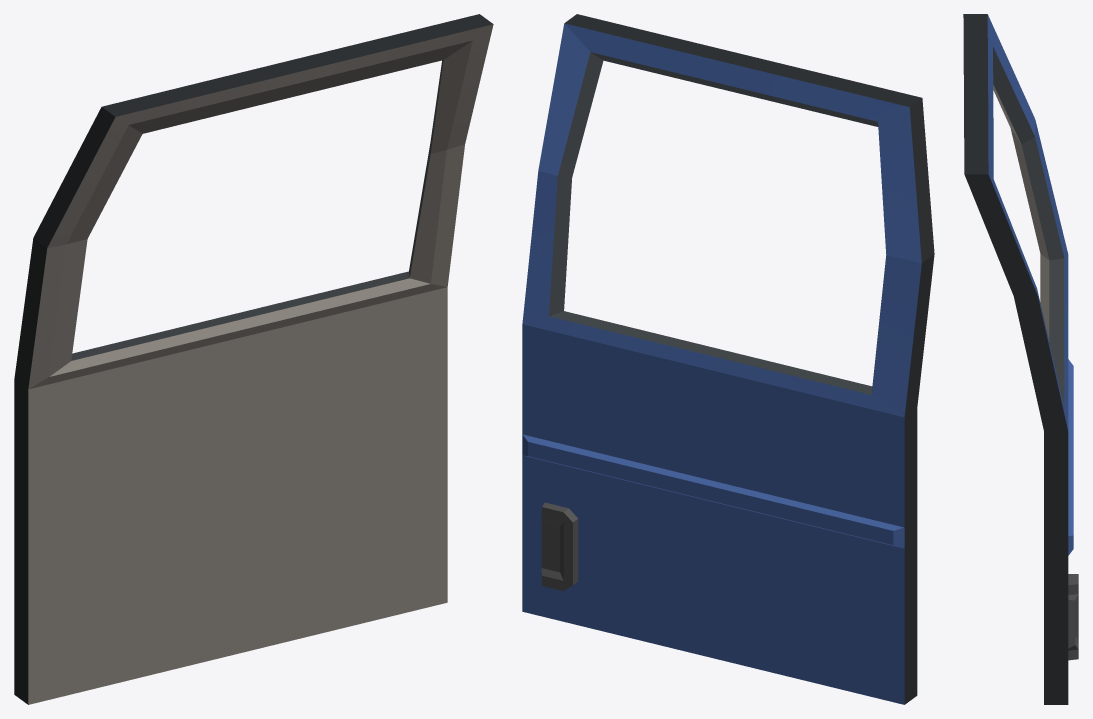
The model's file is SM_Veh_Car_Van_Door_r.obj.
The picture shows the model from 3 angles, left to right: view 1: azimuth 30°, elevation 25°; view 2: azimuth 150°, elevation 25°; view 3: azimuth 270°, elevation 25°; orthographic projection. The views are drawn at different scales.
Parts seen in each view (by area): view 1: SM_Veh_Car_Van_Door_r_0; view 2: SM_Veh_Car_Van_Door_r_0; view 3: SM_Veh_Car_Van_Door_r_0.
Boxes of the visible parts, x1,y1,x2,y2 form: SM_Veh_Car_Van_Door_r_0: (14, 14, 493, 704); SM_Veh_Car_Van_Door_r_0: (522, 14, 934, 704); SM_Veh_Car_Van_Door_r_0: (963, 14, 1078, 704).
Bounding box in the file's own units: 0.8063 × 1.12 × 0.2209.
1 material, 1 textured.
